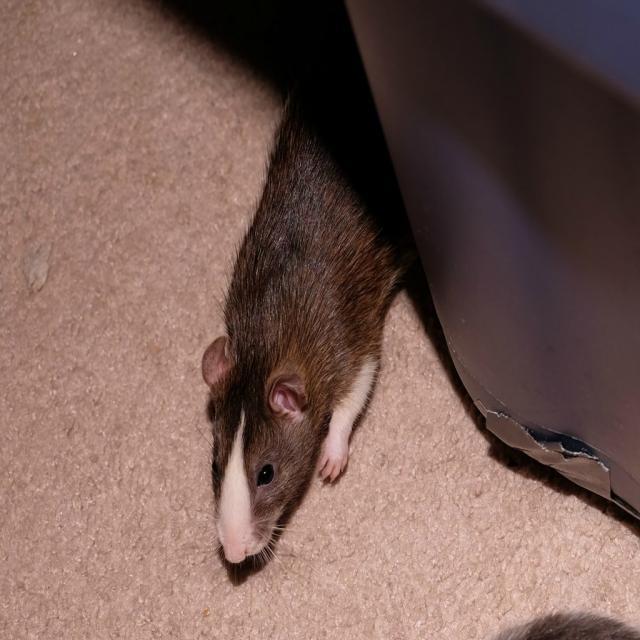rat: (204, 97, 402, 565)
